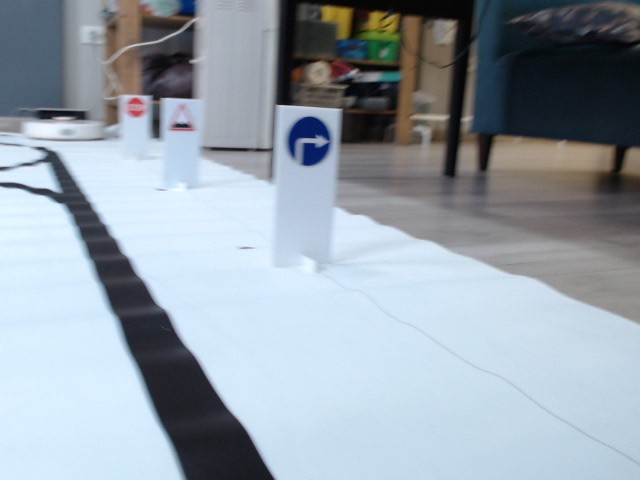Right: (286, 116, 331, 168)
